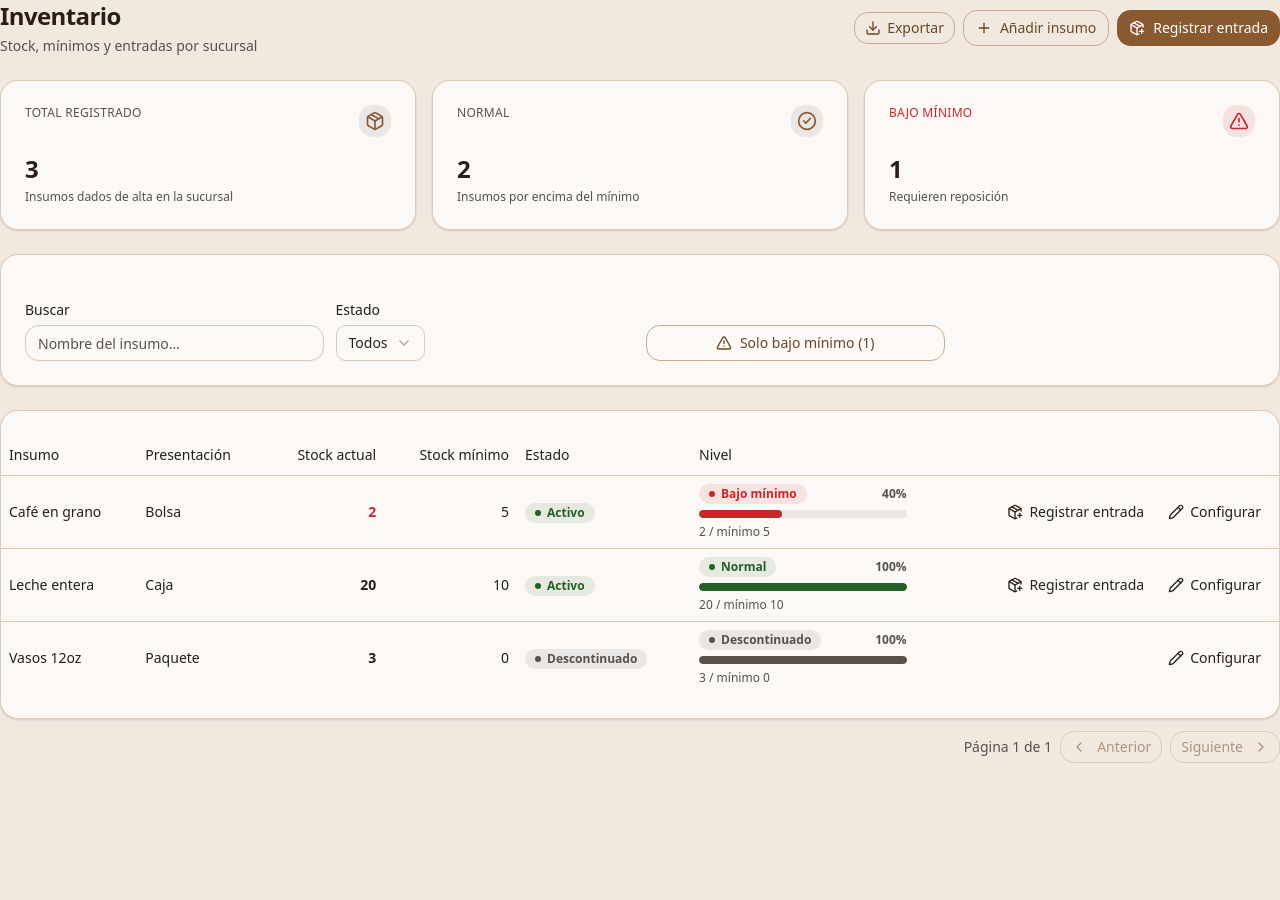
Inventario por sucursal › registra una entrada y actualiza el stock
Click the button "Registrar entrada" in the row of "Leche entera" at (1076, 584), box [997, 568, 1154, 600]
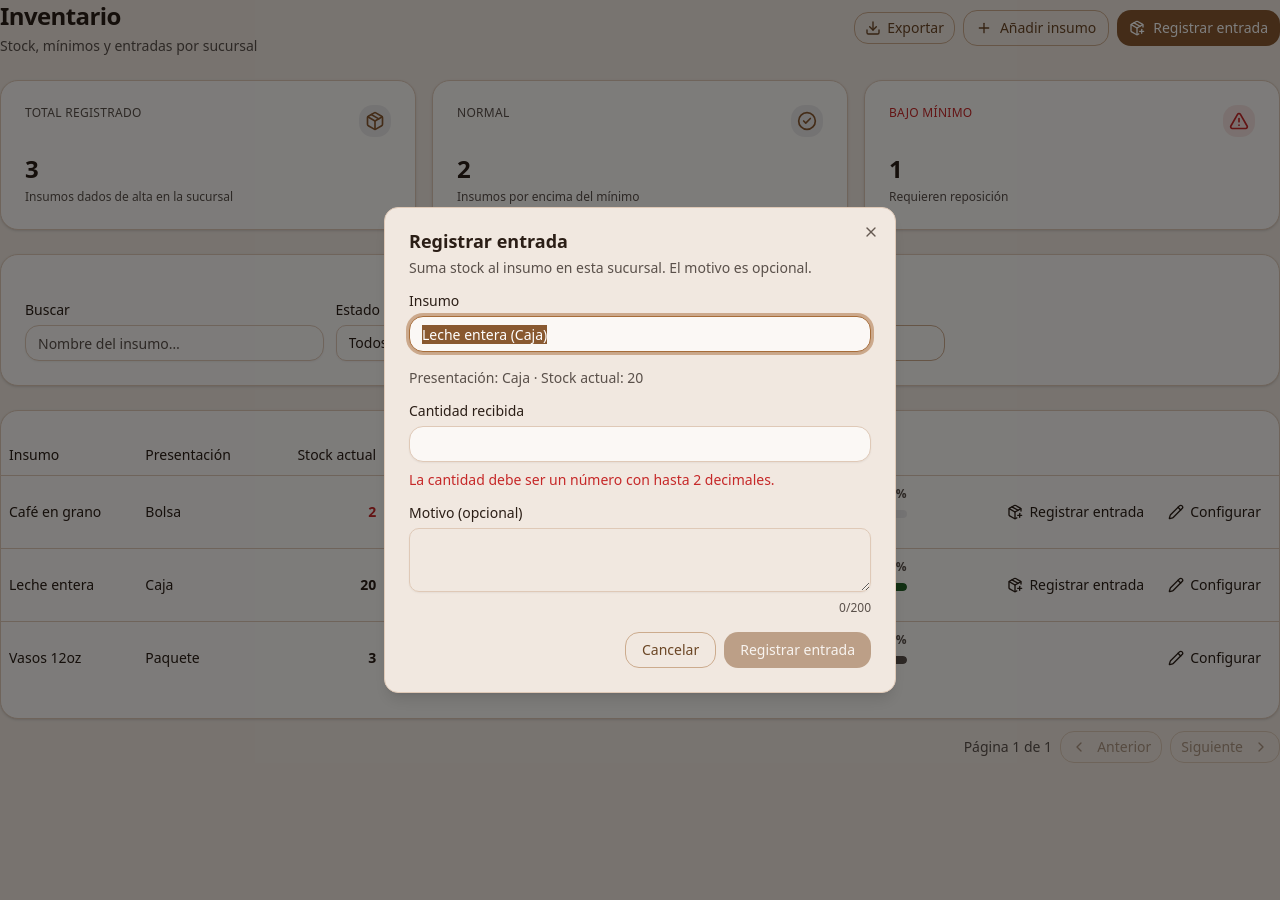
Type "3" into the field labelled "Cantidad recibida" at (640, 444), box [409, 426, 871, 462]
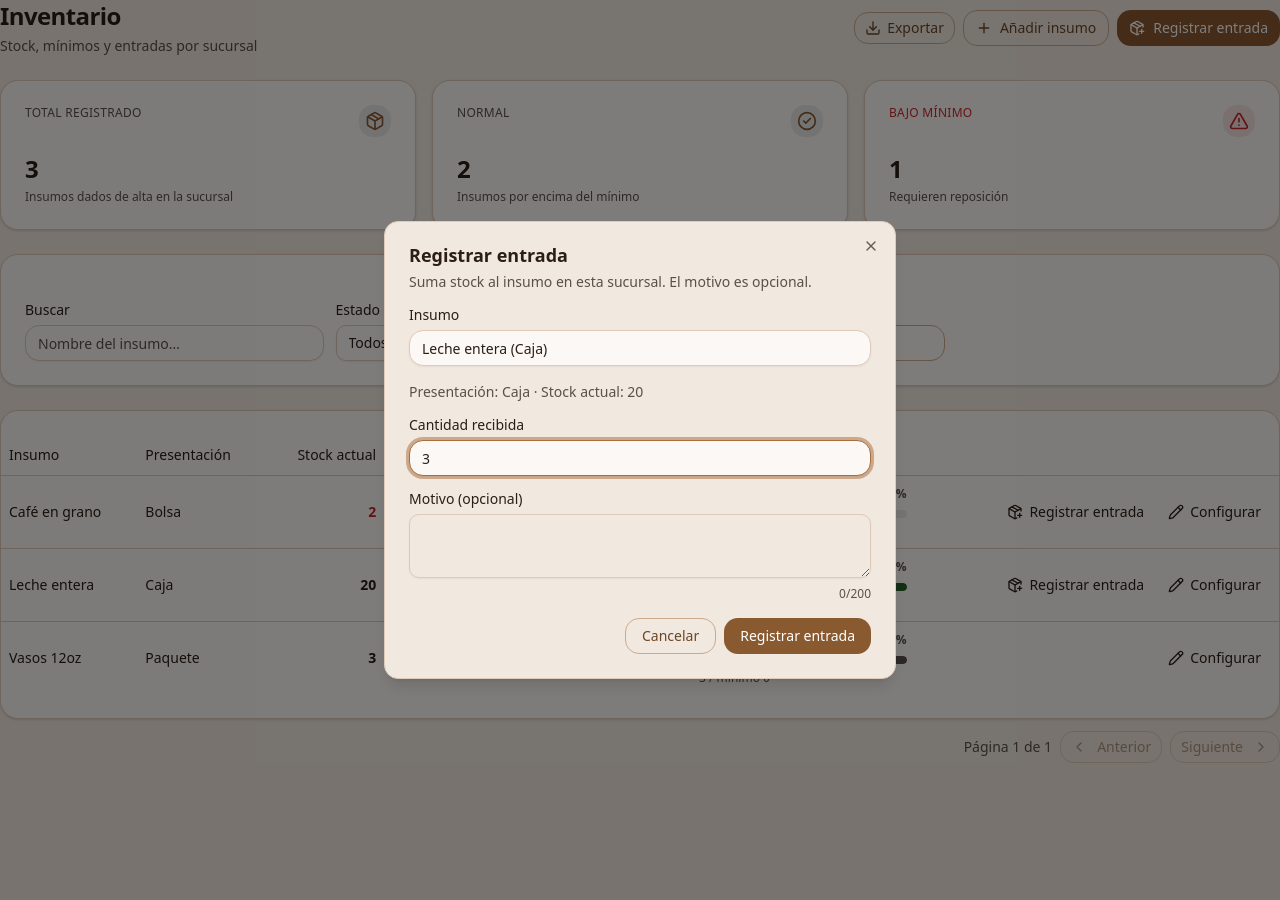
Click the button "Registrar entrada" at (798, 636), box [724, 618, 871, 654]
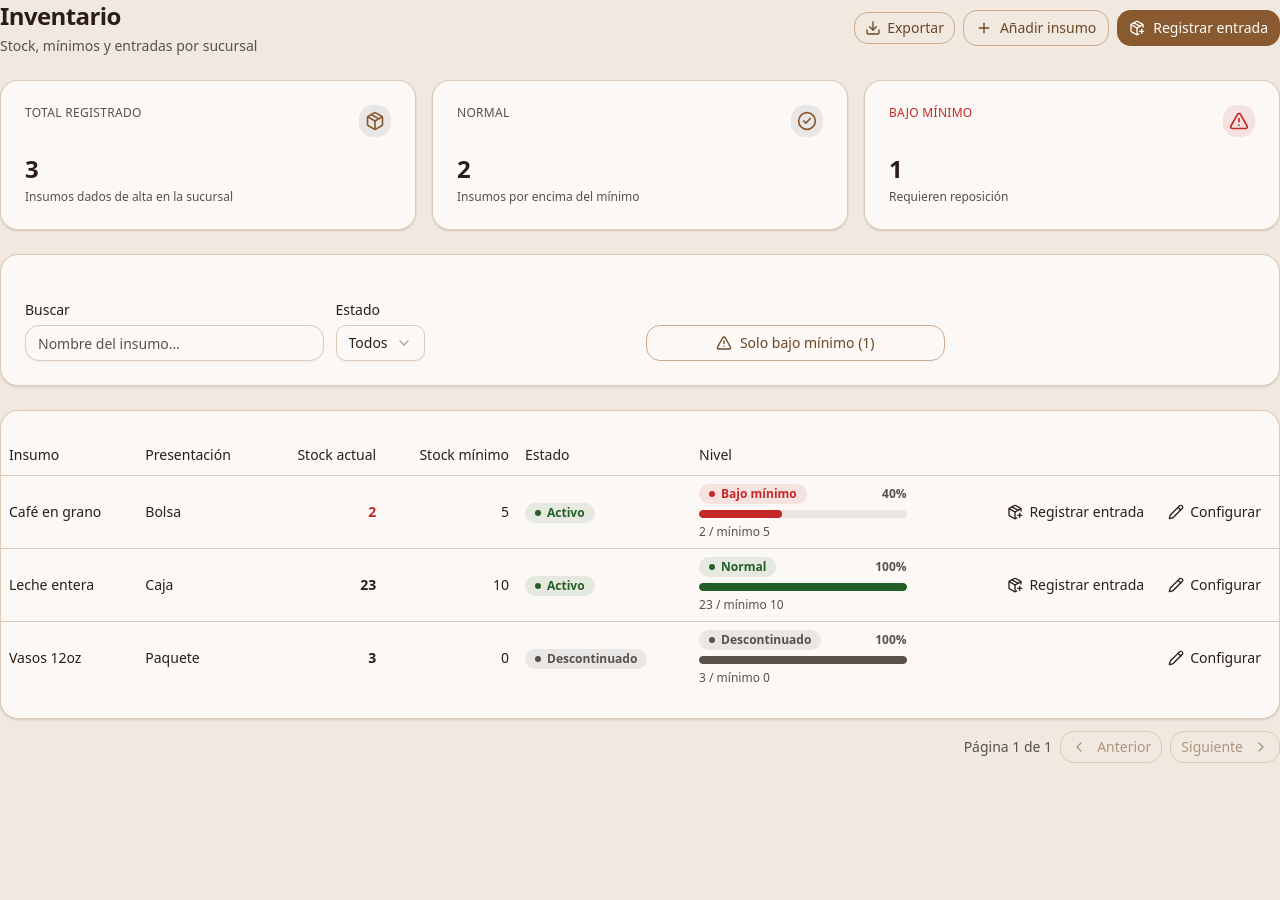
Expected: the text "23" is shown, [360, 574, 376, 594]
